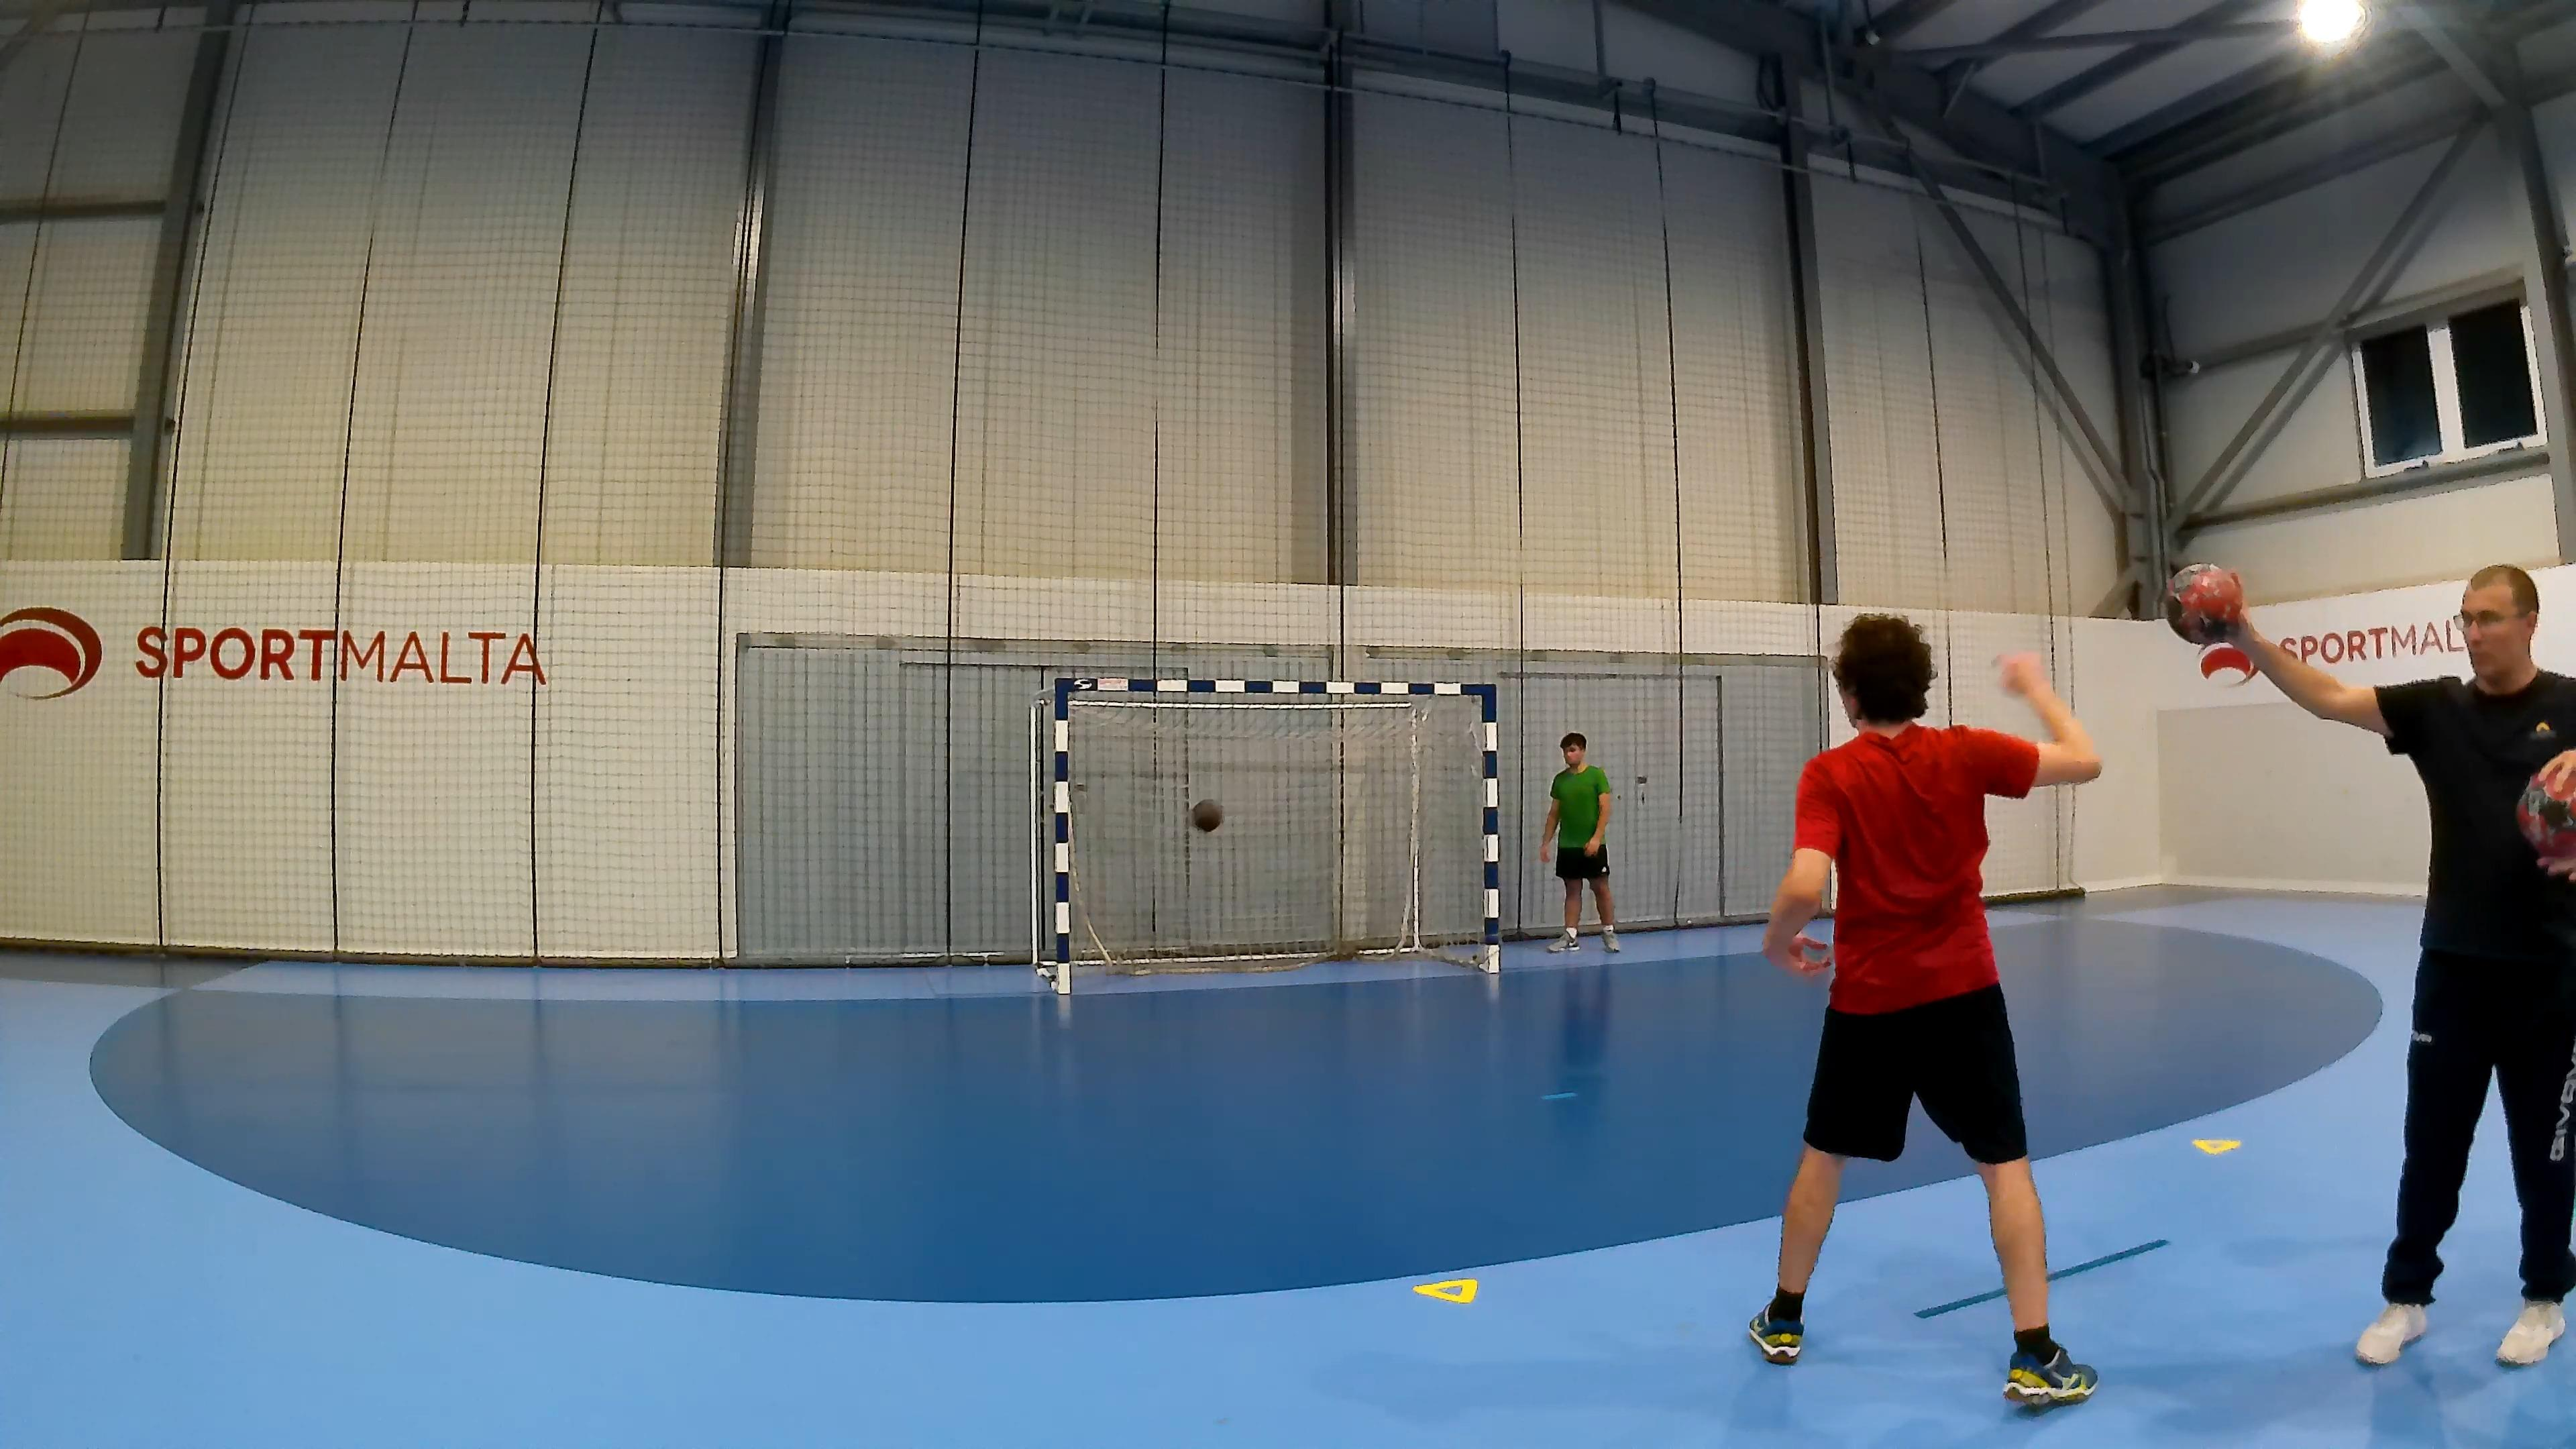handball: (2166, 561, 2243, 642), (1189, 798, 1223, 833)
